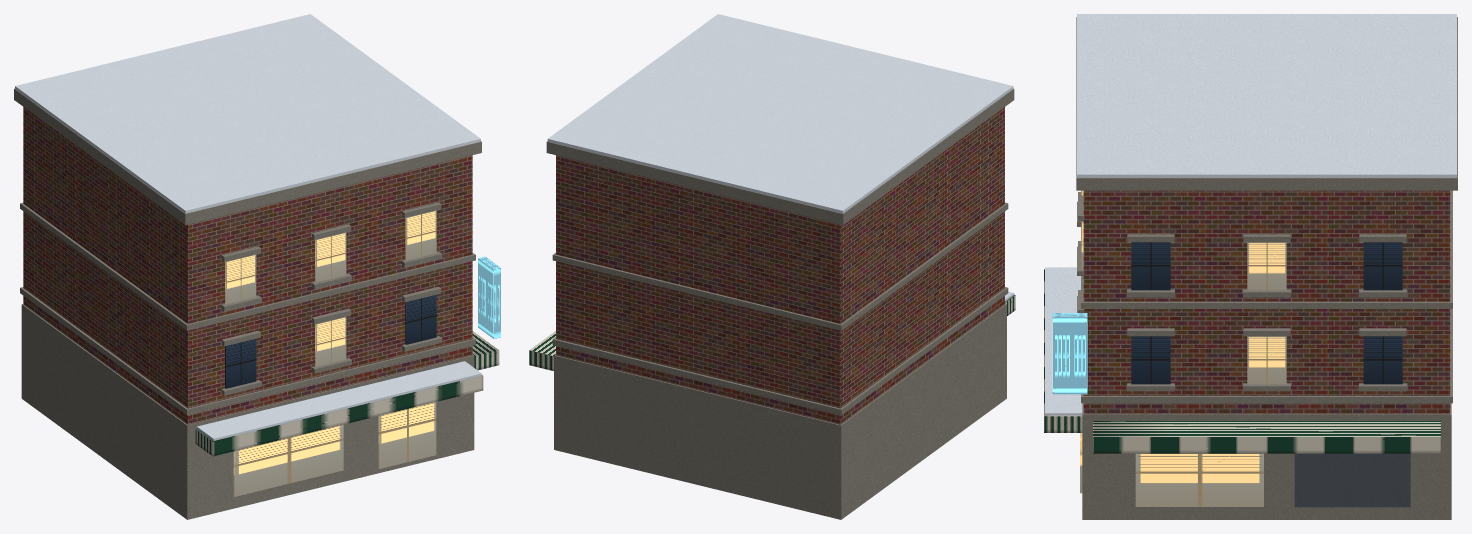
File: nyc_storefront_corner.glb
3 renders of one model, left to right at view 1: azimuth 30°, elevation 25°; view 2: azimuth 150°, elevation 25°; view 3: azimuth 270°, elevation 25°, orthographic. The views are drawn at different scales.
Parts seen in each view (by area): view 1: nyc_storefront_corner.glb; view 2: nyc_storefront_corner.glb; view 3: nyc_storefront_corner.glb.
Part boxes in pixels (x1=…): nyc_storefront_corner.glb: x1=14, y1=14, x2=500, y2=519; nyc_storefront_corner.glb: x1=529, y1=14, x2=1015, y2=519; nyc_storefront_corner.glb: x1=1044, y1=14, x2=1457, y2=519.
Size of the model in its own units: 13.55 by 12.56 by 13.55.
8 materials, 8 textured.
